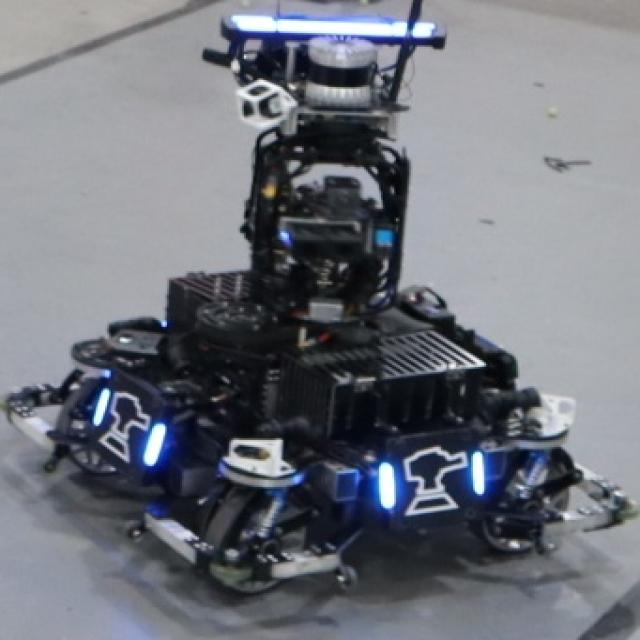Bs: (375, 445, 490, 517), (92, 370, 163, 470)
